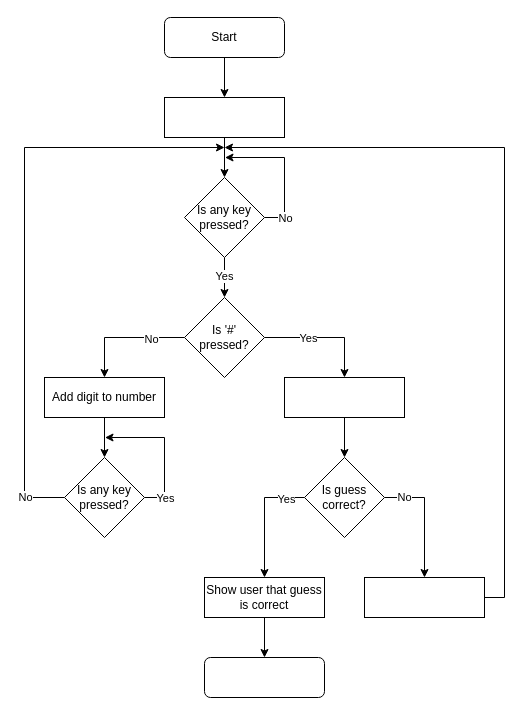
The diagram is 530 pixels wide and 715 high, and some of its shapes have lost their labels. Here are the shapes that lost their labels. From the top down, the centre of each, then its label:
At (224,117): "Generate random number".
At (344,397): "Compare guessed and selected number".
At (424,597): "Show user whether guess is less or greater than number".
At (264,677): "End".
